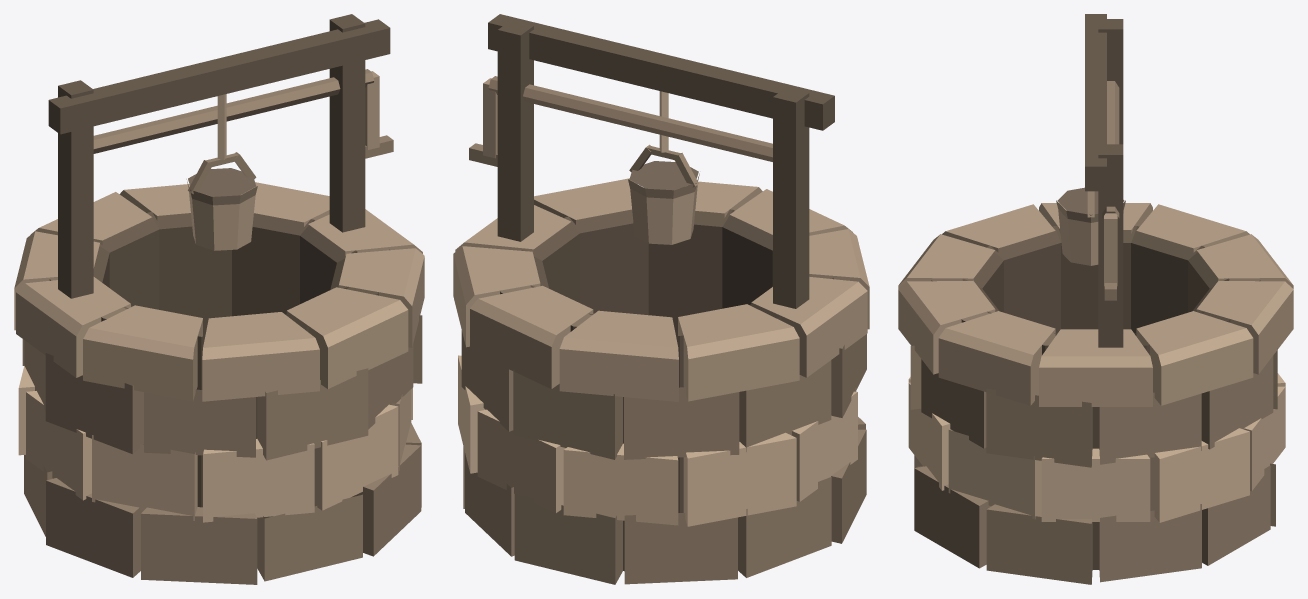
Rendered from stone-well-2b4717.glb.
3 views of the same model, side by side, from view 1: azimuth 30°, elevation 25°; view 2: azimuth 150°, elevation 25°; view 3: azimuth 270°, elevation 25° (orthographic). The views are drawn at different scales.
Parts seen in each view (by area): view 1: well-body, bucket-mesh, crank-mesh; view 2: well-body, crank-mesh, bucket-mesh; view 3: well-body, bucket-mesh, crank-mesh.
Part boxes in pixels (bbox=[...]): well-body: bbox=[14, 14, 424, 584]; bucket-mesh: bbox=[186, 94, 257, 250]; crank-mesh: bbox=[93, 69, 393, 158]; well-body: bbox=[453, 14, 869, 584]; crank-mesh: bbox=[469, 76, 772, 166]; bucket-mesh: bbox=[628, 91, 699, 244]; well-body: bbox=[898, 14, 1293, 584]; bucket-mesh: bbox=[1056, 187, 1125, 265]; crank-mesh: bbox=[1102, 81, 1119, 300].
Bounding box in the file's own units: 1.57 × 1.86 × 1.6.
